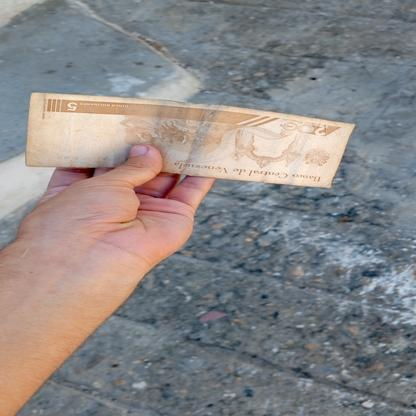five-back-vef: (24, 92, 356, 188)
